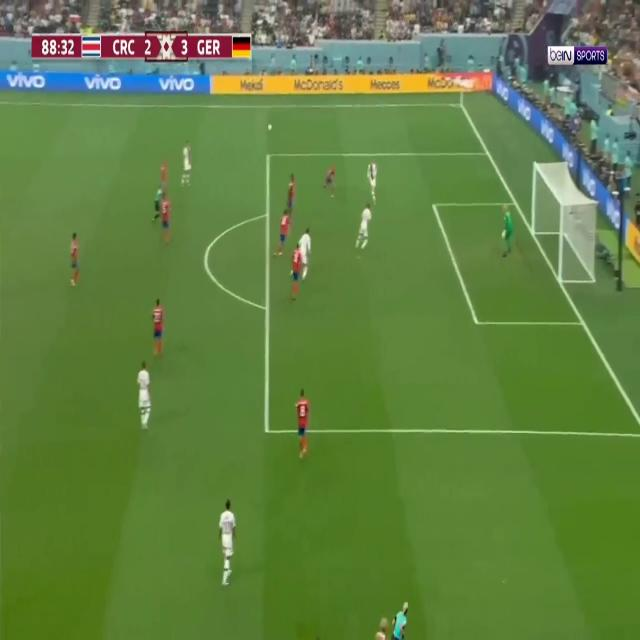Ball: (268, 122, 273, 132)
GoalKeeper: (501, 203, 514, 259)
Referee: (391, 599, 410, 640), (152, 184, 164, 221)
TEAM 1: (273, 207, 296, 261), (294, 386, 309, 460), (150, 295, 165, 360), (289, 242, 303, 301), (69, 229, 81, 290), (285, 170, 297, 224), (160, 190, 172, 243), (321, 164, 337, 198), (160, 156, 169, 192)
TEAM 2: (217, 496, 238, 588), (136, 358, 153, 433), (291, 226, 312, 277), (355, 201, 372, 252), (366, 158, 378, 206), (182, 138, 192, 188)
